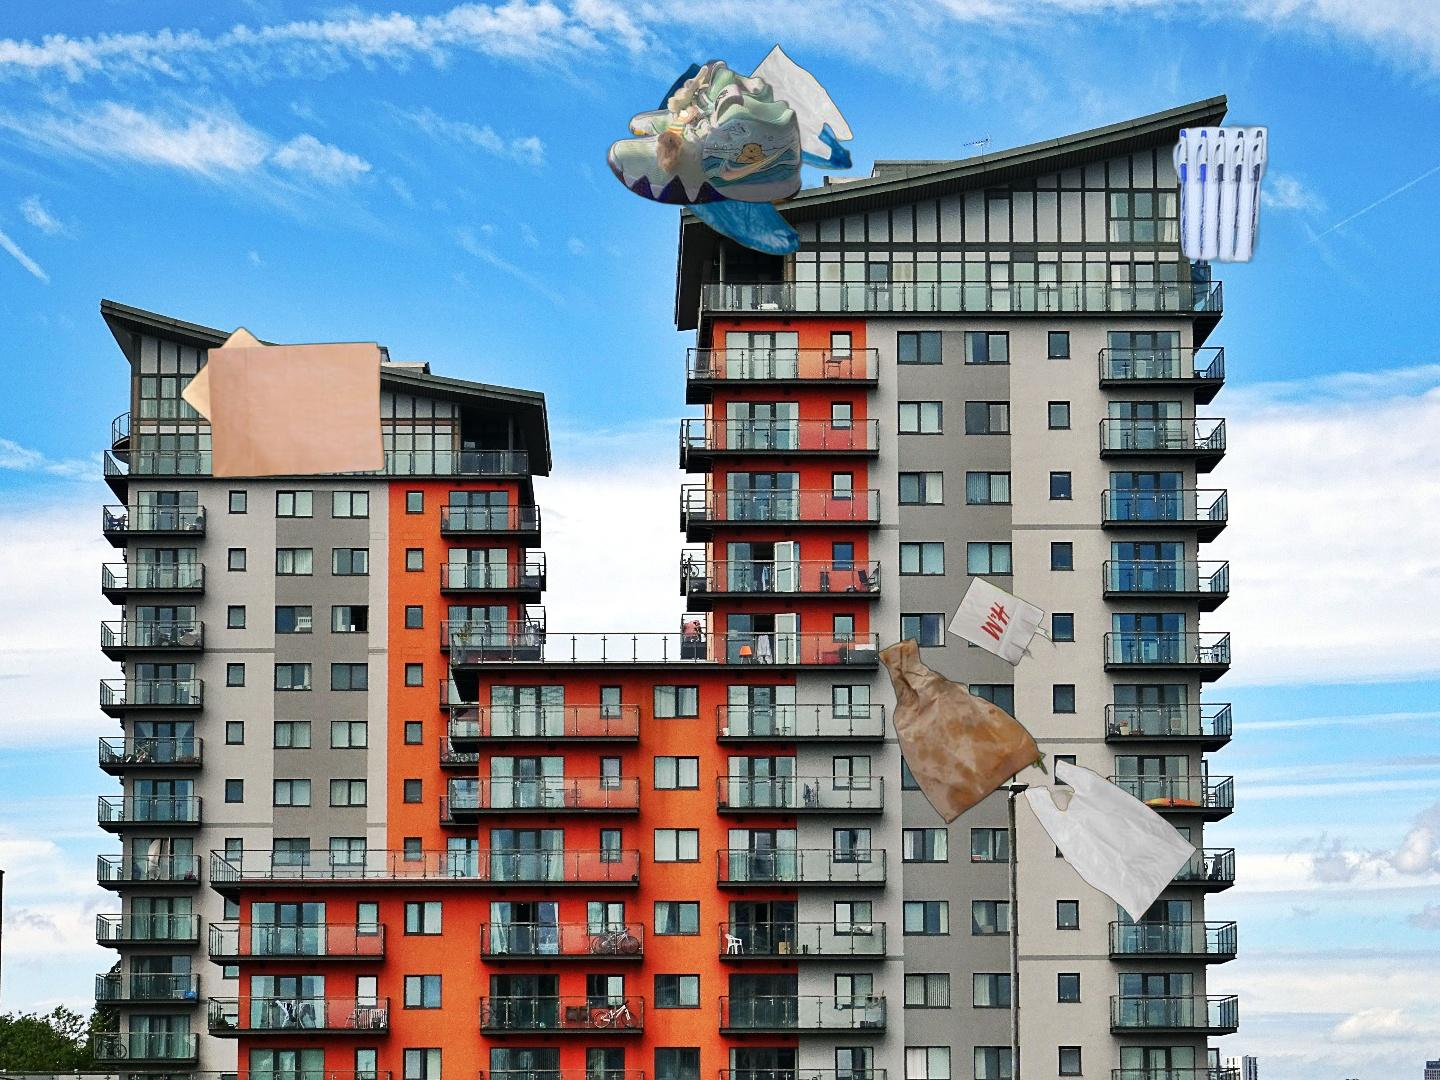metal-cans: (1426, 819, 1440, 1080)
paper-bag: (876, 573, 1059, 827), (178, 324, 388, 496)
penholder: (1170, 120, 1298, 270)
plastic-bag: (635, 42, 856, 259), (1021, 756, 1200, 927)
shoes: (603, 57, 824, 239)
